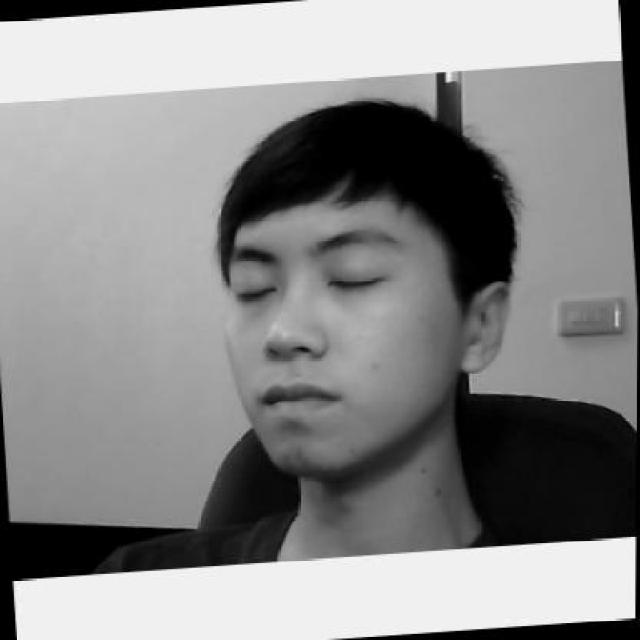inattentif: (214, 89, 523, 482)
